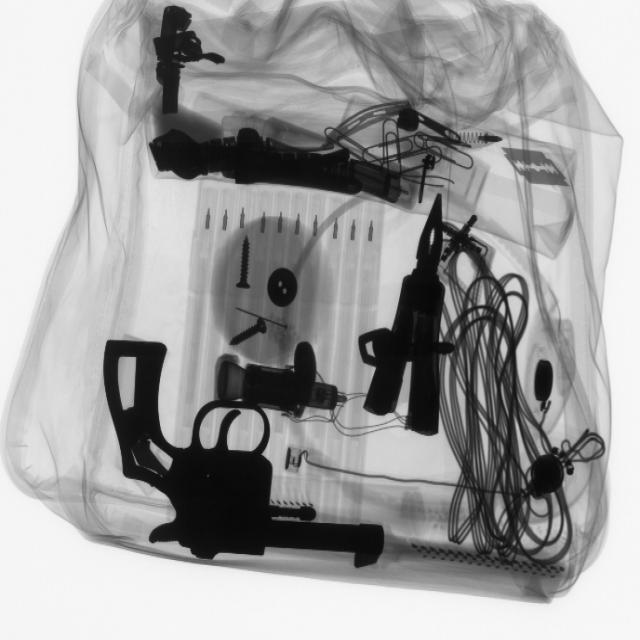BLADE: (504, 138, 577, 194)
GUN: (103, 337, 391, 568)
SCREW: (220, 229, 274, 296), (223, 307, 274, 355)
